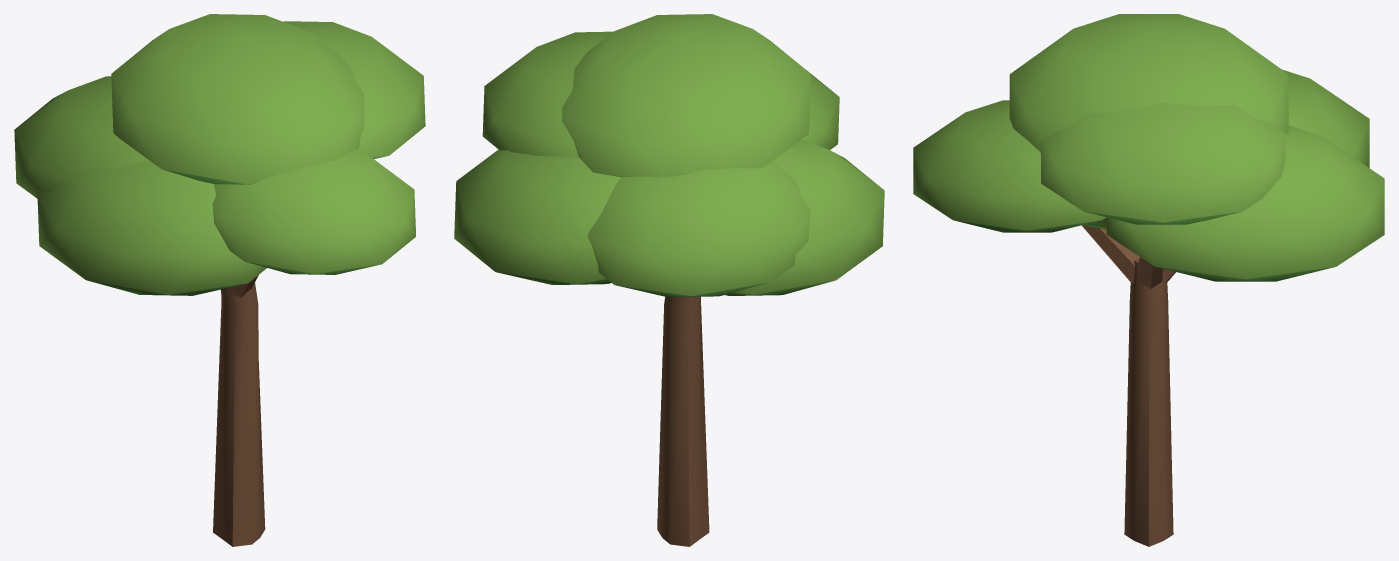
File: tree_round_a_far.glb
The picture shows the model from 3 angles, left to right: view 1: azimuth 30°, elevation 25°; view 2: azimuth 150°, elevation 25°; view 3: azimuth 270°, elevation 25°; orthographic projection.
Parts seen in each view (by area): view 1: body; view 2: body; view 3: body.
Boxes of the visible parts, left/top/right/bottom form: body: left=14, top=14, right=425, bottom=546; body: left=454, top=14, right=884, bottom=546; body: left=913, top=14, right=1384, bottom=546.
Bounding box in the file's own units: 3.86 × 5.16 × 4.37.
